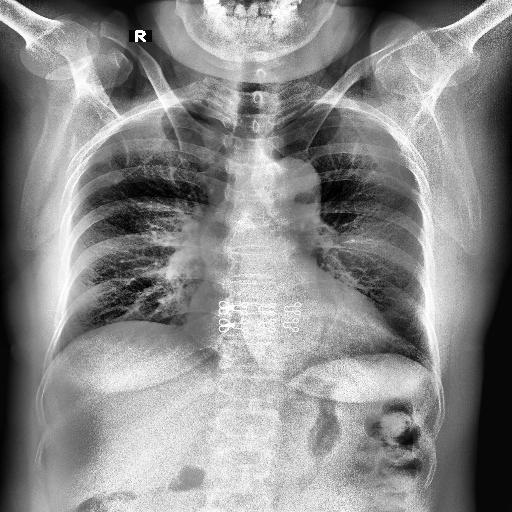0- Aortic enlargement: (253, 156, 322, 221), (264, 156, 322, 232), (276, 156, 322, 214)
3- Cardiomegaly: (182, 290, 398, 360), (184, 292, 400, 356), (186, 302, 396, 354)
